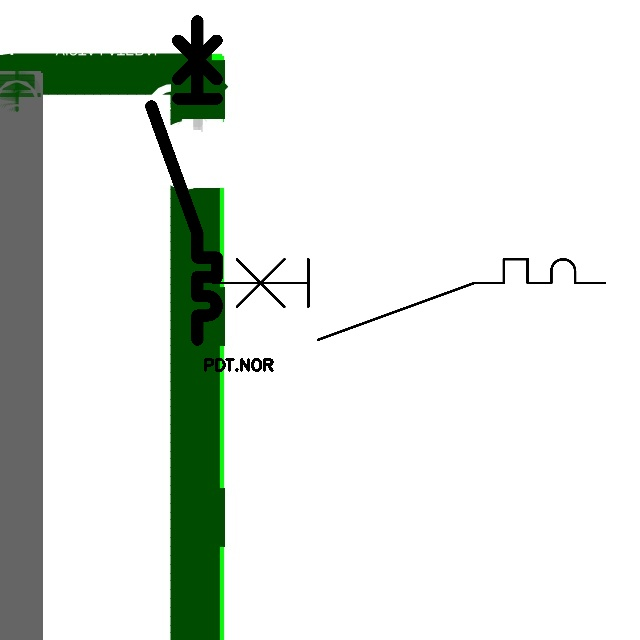interruptor_termomagnetico: (203, 249, 615, 350), (143, 13, 225, 348)
